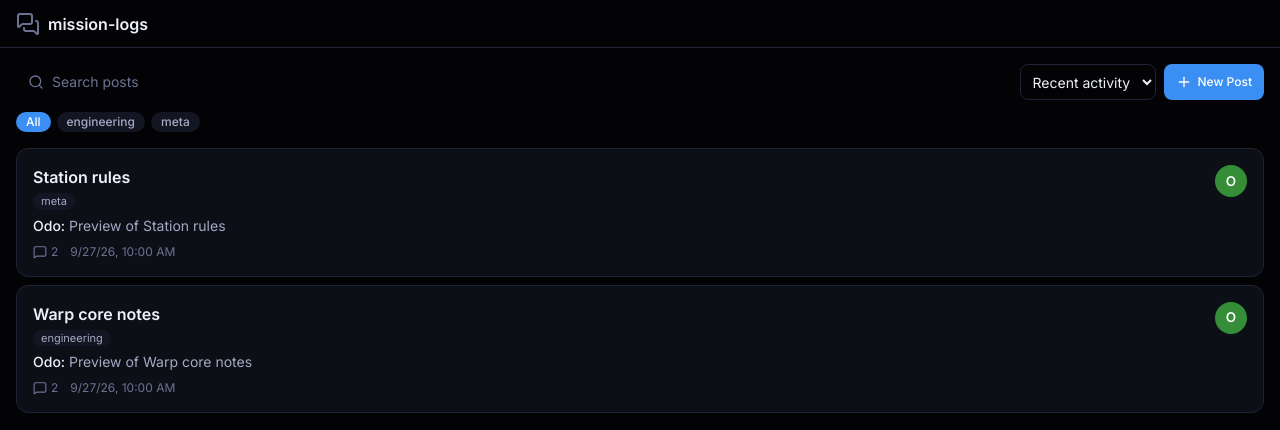
ForumView › filters by tag and search
Check: the heading "Warp core notes" is shown, box [33,302,160,326]
Step 1. Click the button "meta" → (175,122), box [151,112,200,132]
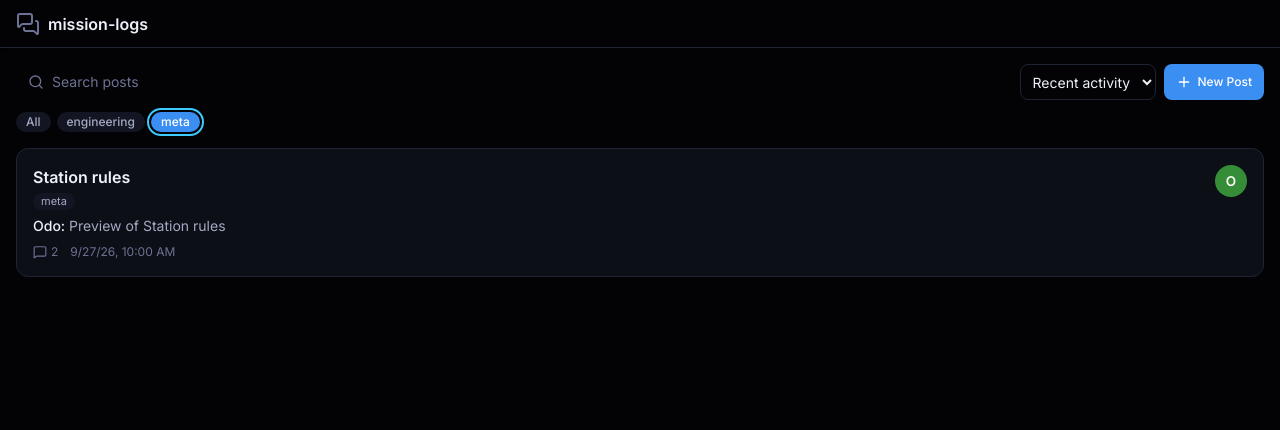
Check: the button "Warp core notes" is gone
Step 2. Click the button "All" → (33,122), box [16,112,51,132]
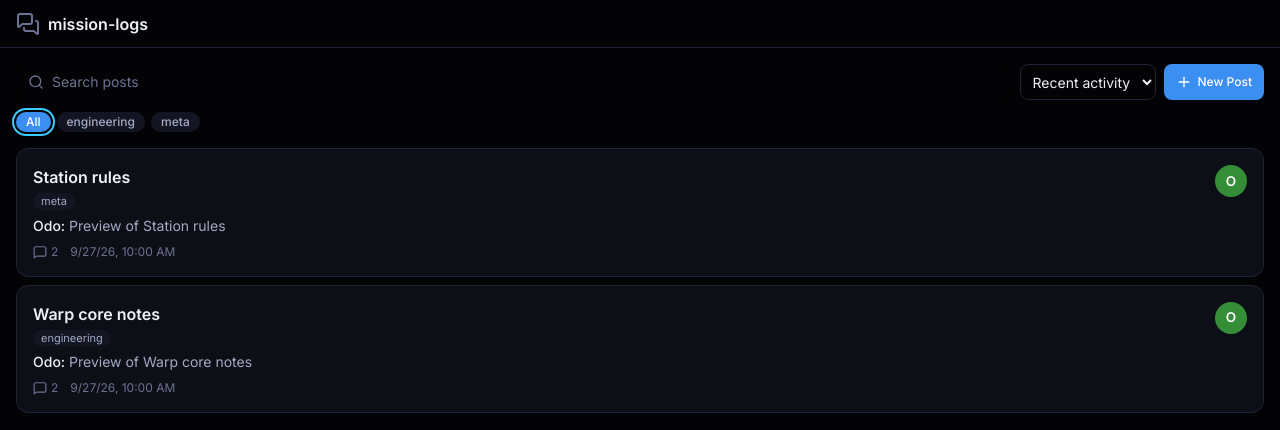
Step 3. Type "warp" into the field labelled "Search posts" → (526,82), box [52,72,1000,92]
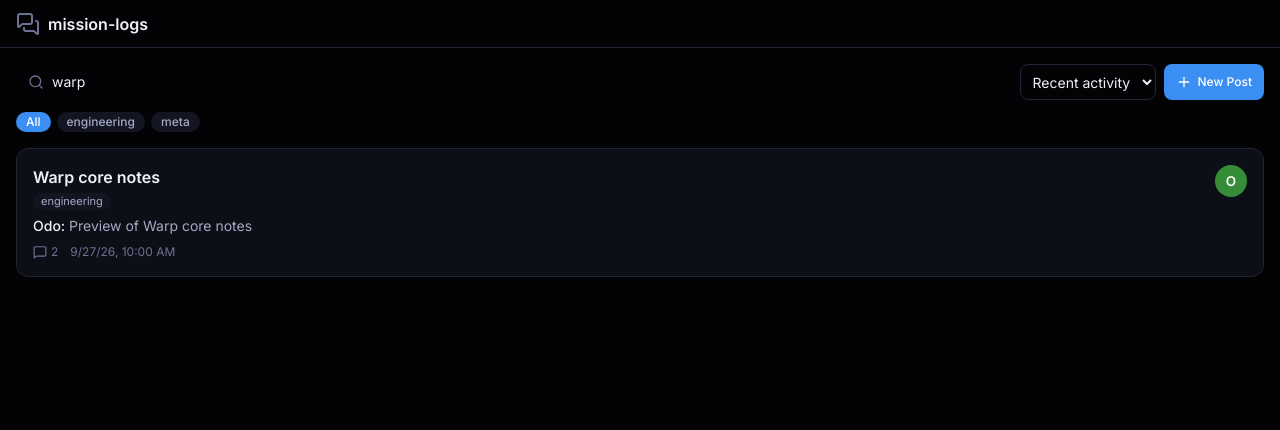
Check: the heading "Warp core notes" is shown, box [33,165,160,189]
Check: the button "Station rules" is gone
